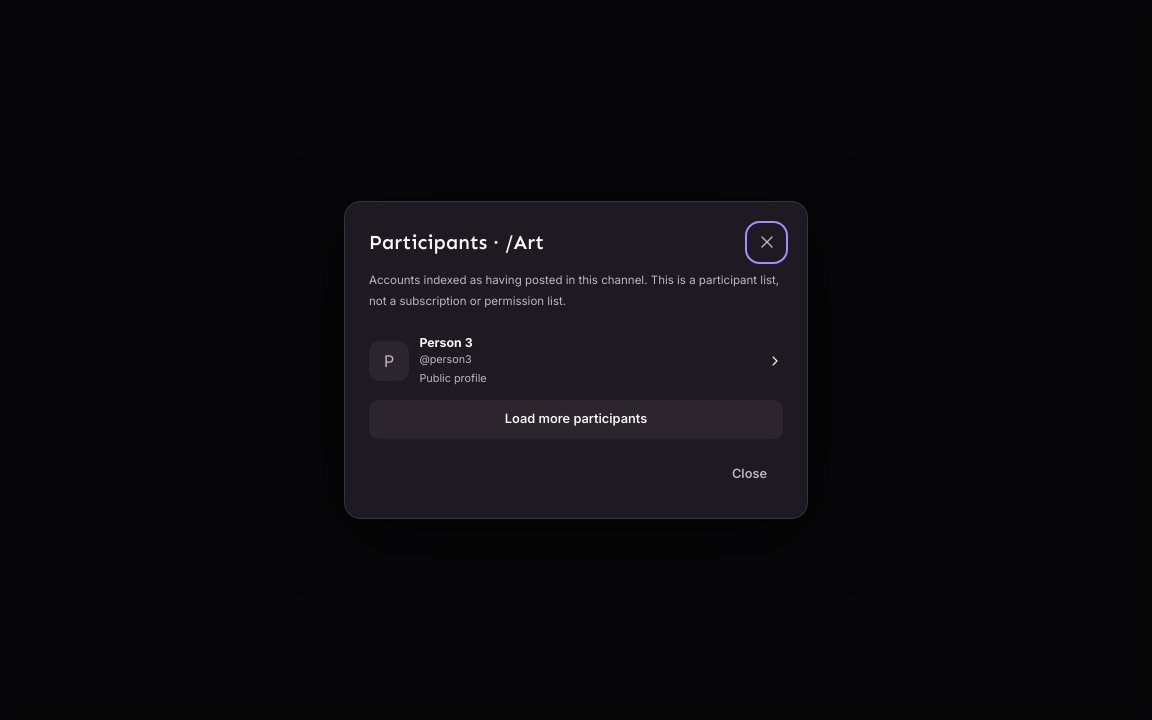
Scenario: read-only community panels › paginates participants with deduplication and does not label them subscribers
Click the button "Load more participants" at (576, 419), box [369,400,783,439]
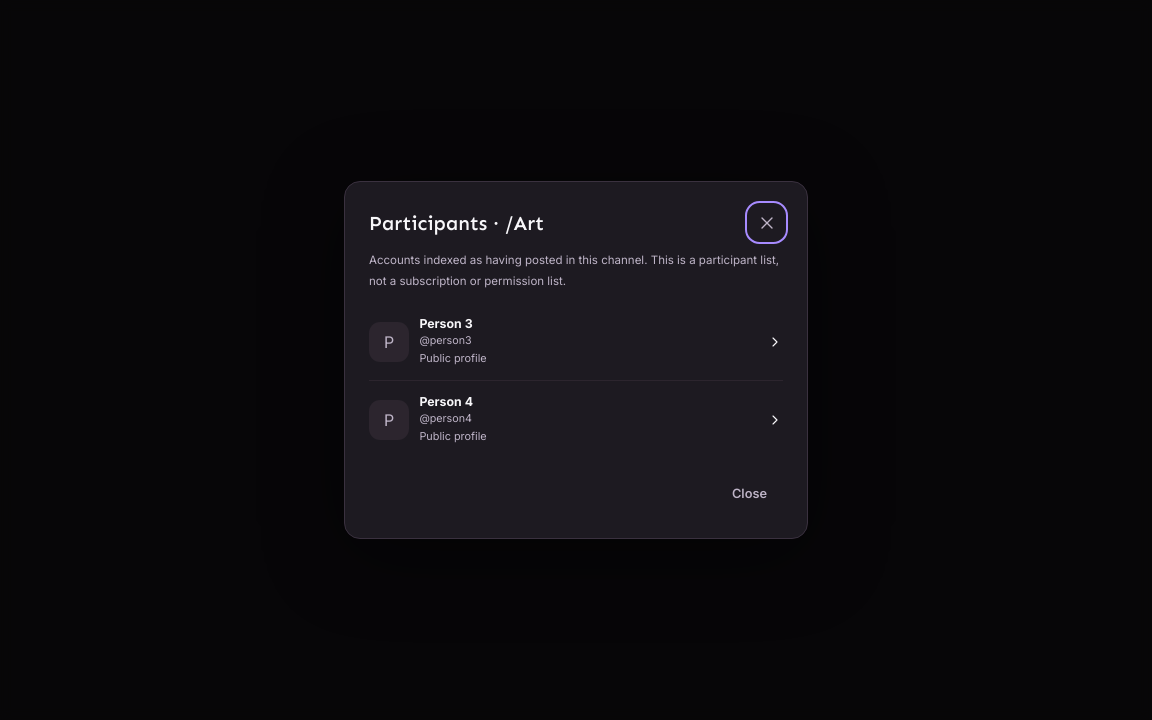
Now the number of list items with class "community-person" is 2, box [369,303,783,380]; [369,380,783,459]
